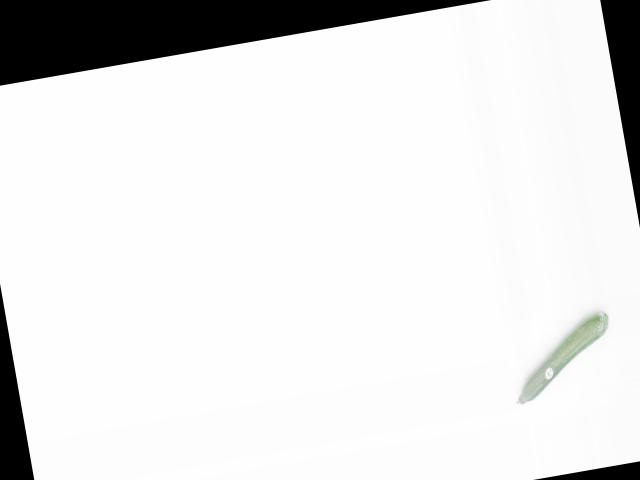cucumber: (503, 311, 619, 405)
